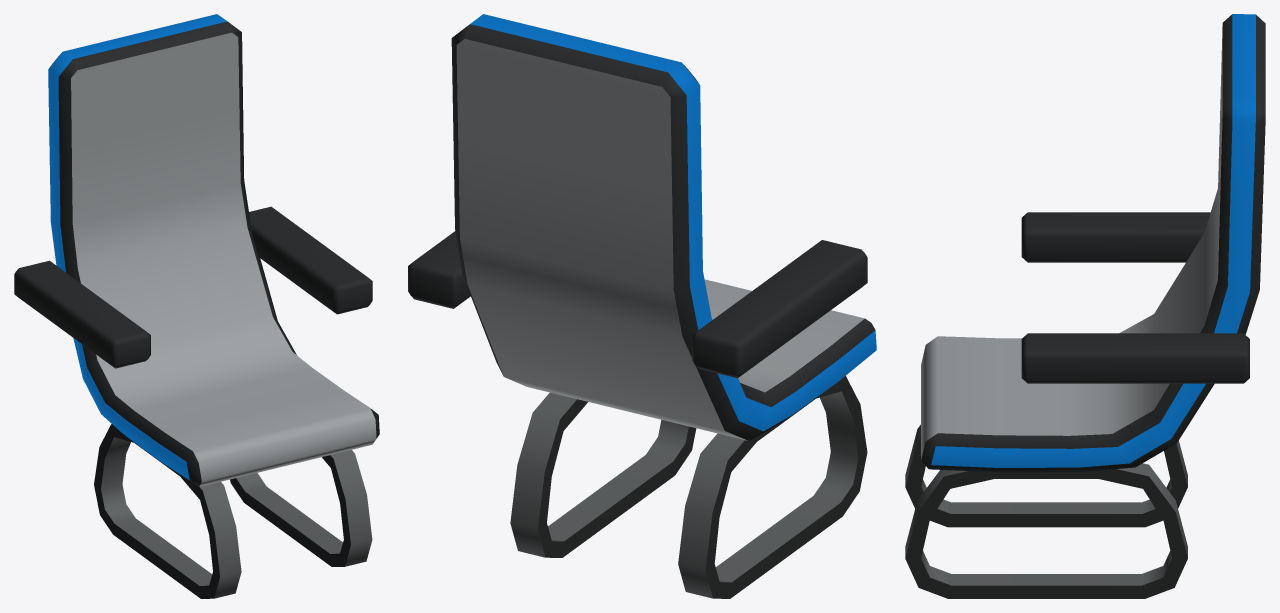
The model's file is Chair_008.glb.
3 views of the same model, side by side, from view 1: azimuth 30°, elevation 25°; view 2: azimuth 150°, elevation 25°; view 3: azimuth 270°, elevation 25° (orthographic). The views are drawn at different scales.
Parts seen in each view (by area): view 1: Chair_008; view 2: Chair_008; view 3: Chair_008.
Part boxes in pixels (<box>): Chair_008: <box>14,14,379,598</box>; Chair_008: <box>408,14,876,598</box>; Chair_008: <box>905,14,1265,598</box>.
Bounding box in the file's own units: 0.7836 × 1.28 × 0.834.
2 materials, 2 textured.
